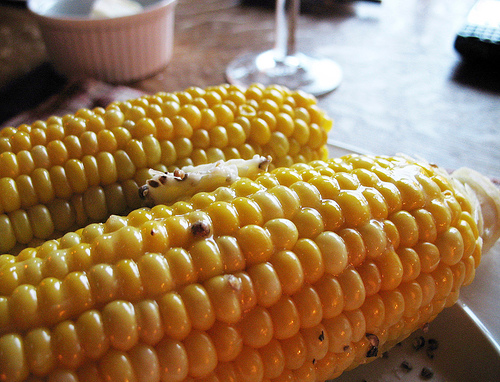corn: (0, 151, 499, 381), (0, 85, 334, 253)
